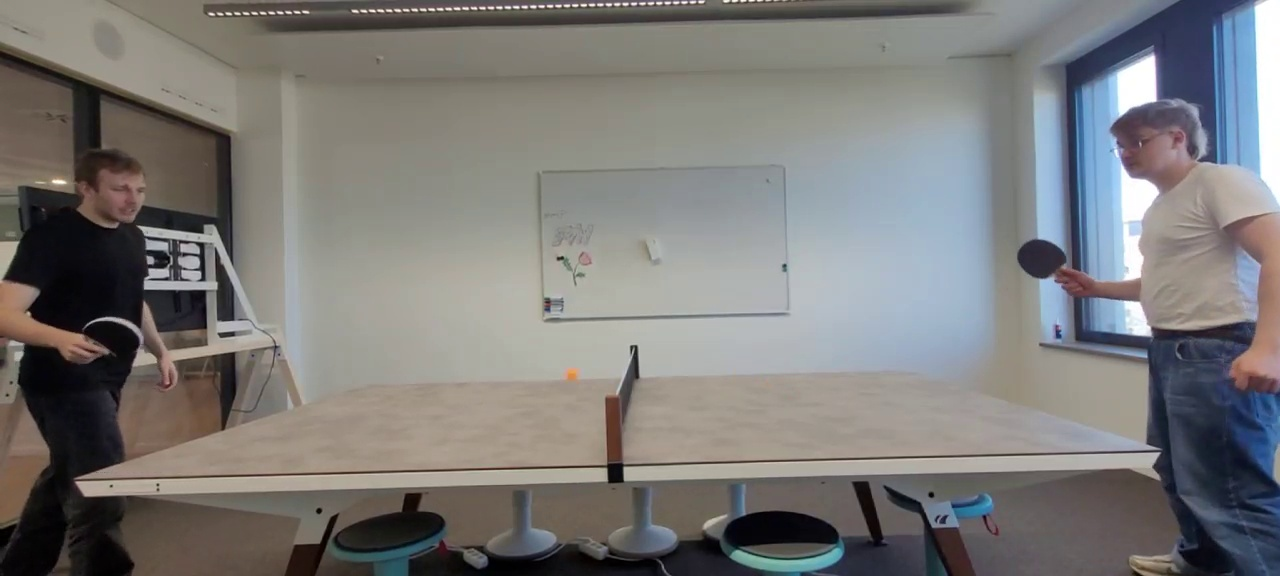plate: (76, 368, 1159, 481)
racket: (82, 317, 143, 356), (1017, 240, 1066, 279)
ttball: (568, 370, 576, 380)
